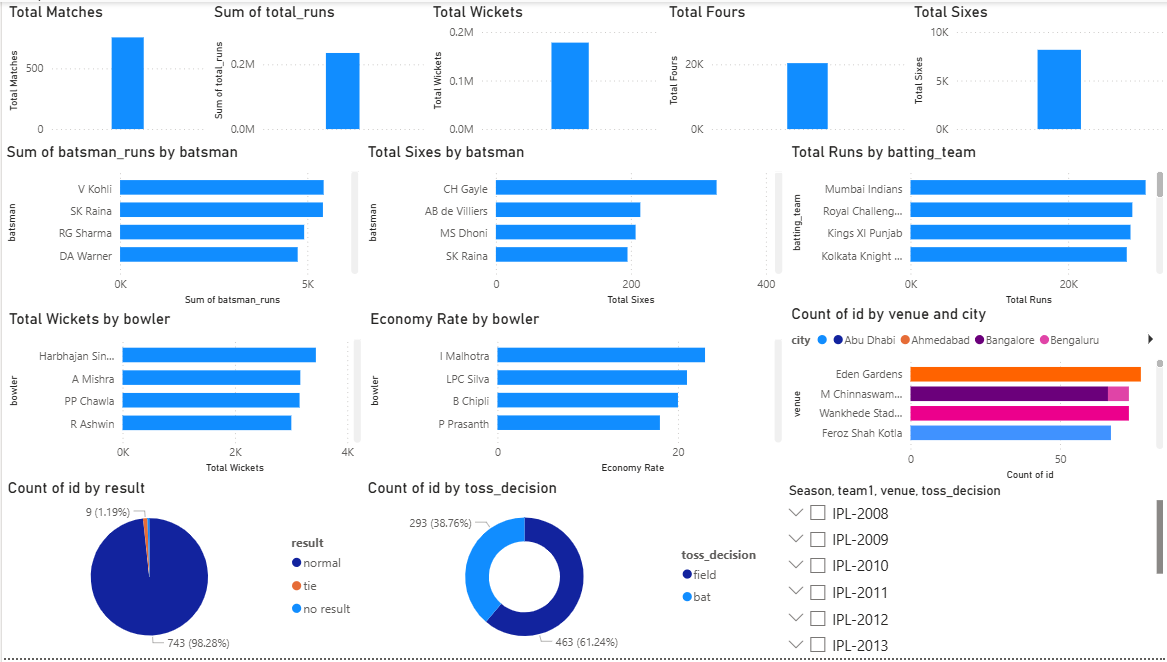

The page's visual inventory and layout, read from the dashboard file:
{"tool":"powerbi","page":{"name":"Page 1","canvas":[1280,720],"ordinal":0},"visuals":[{"type":"clusteredColumnChart","fields":{"Y":["deliveries.Total Matches"]},"box":[2.7,0,225,153.7],"z":0},{"type":"clusteredColumnChart","fields":{"Y":["deliveries.total_runs"]},"box":[227.8,0,240.1,153.7],"z":1000},{"type":"clusteredColumnChart","fields":{"Y":["deliveries.Total Wickets"]},"box":[467.9,0,259.3,153.7],"z":2000},{"type":"clusteredColumnChart","fields":{"Y":["deliveries.Total Fours"]},"box":[727.3,0,269,153.7],"z":3000},{"type":"clusteredColumnChart","fields":{"Y":["deliveries.Total Sixes"]},"box":[996.2,0,284,153.7],"z":4000},{"type":"barChart","fields":{"Category":["deliveries.batsman"],"Y":["deliveries.batsman_runs"]},"box":[0,153.7,396.6,183.9],"z":5000},{"type":"barChart","fields":{"Category":["deliveries.batsman"],"Y":["deliveries.Total Sixes"]},"box":[396.6,153.7,465.2,183.9],"z":6000},{"type":"barChart","fields":{"Category":["deliveries.batting_team"],"Y":["deliveries.Total Runs"]},"box":[861.8,153.7,418.5,183.9],"z":7000},{"type":"barChart","fields":{"Category":["deliveries.bowler"],"Y":["deliveries.Total Wickets"]},"box":[2.7,337.6,396.6,185.2],"z":8000},{"type":"pieChart","fields":{"Category":["matches.result"],"Y":["matches.id"]},"box":[1.4,522.8,395.2,197.6],"z":9000},{"type":"donutChart","fields":{"Category":["matches.toss_decision"],"Y":["matches.id"]},"box":[396.6,522.8,454.2,197.6],"z":10000},{"type":"barChart","fields":{"Category":["matches.venue"],"Y":["matches.id"],"Series":["matches.city"]},"box":[861.8,332.1,418.5,197.6],"z":11000},{"type":"slicer","fields":{"Values":["matches.Season","matches.team1","matches.venue","matches.toss_decision"]},"box":[850.8,522.8,429.5,197.6],"z":11001},{"type":"barChart","fields":{"Category":["deliveries.bowler"],"Y":["deliveries.Economy Rate"]},"box":[400,338,462,185],"z":11002}]}

Visuals, with their boxes in screenshot pixels (x1, y1, x2, y2), scaled from the page's 1280x720 canvas onto the 1167x662 screenshot:
clusteredColumnChart - deliveries.Total Matches: rect(2, 0, 208, 141)
clusteredColumnChart - deliveries.total_runs: rect(208, 0, 427, 141)
clusteredColumnChart - deliveries.Total Wickets: rect(427, 0, 663, 141)
clusteredColumnChart - deliveries.Total Fours: rect(663, 0, 908, 141)
clusteredColumnChart - deliveries.Total Sixes: rect(908, 0, 1166, 141)
barChart - deliveries.batsman x deliveries.batsman_runs: rect(0, 141, 362, 310)
barChart - deliveries.batsman x deliveries.Total Sixes: rect(362, 141, 786, 310)
barChart - deliveries.batting_team x deliveries.Total Runs: rect(786, 141, 1166, 310)
barChart - deliveries.bowler x deliveries.Total Wickets: rect(2, 310, 364, 481)
pieChart - matches.result x matches.id: rect(1, 481, 362, 661)
donutChart - matches.toss_decision x matches.id: rect(362, 481, 776, 661)
barChart - matches.venue x matches.id: rect(786, 305, 1166, 487)
slicer - matches.Season x matches.team1: rect(776, 481, 1166, 661)
barChart - deliveries.bowler x deliveries.Economy Rate: rect(365, 311, 786, 481)
